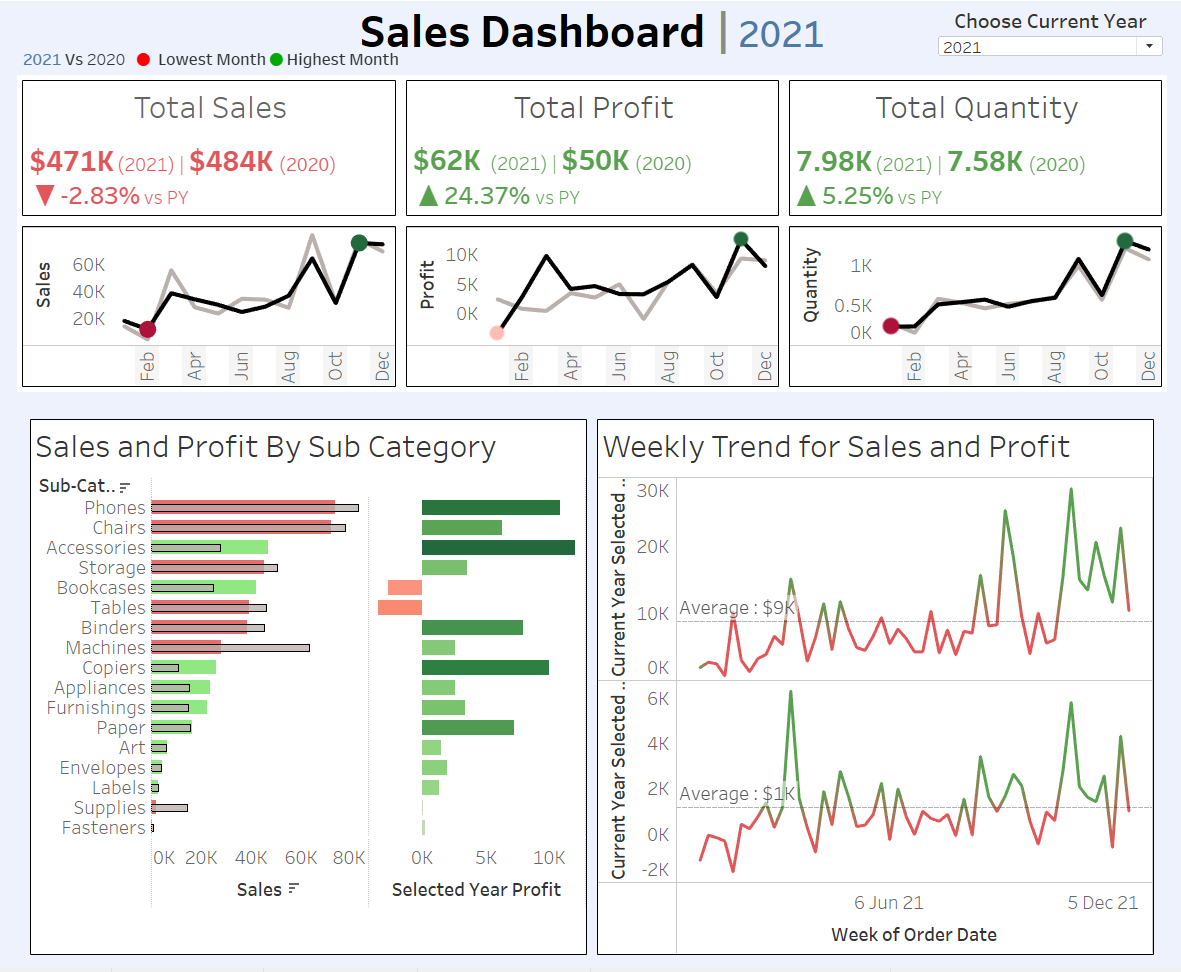

This screenshot's page, from the dashboard's own definition file:
{"tool":"tableau","page":{"name":"Dashboard 1","canvas":[1200,1000],"ordinal":0},"visuals":[{"type":"text","box":[8,8,1184,54]},{"type":"parameter","param":"[Parameters].[Parameter 1]","box":[940,11,231,52]},{"type":"worksheet","title":"Legend","mark":"Automatic","box":[30,60,526,27]},{"type":"worksheet","title":"Total Sales Ban","mark":"Text","box":[25,79,384,86]},{"type":"worksheet","title":"Total Profit Ban","mark":"Text","box":[409,79,383,86]},{"type":"worksheet","title":"Total Quantity Ban","mark":"Text","box":[792,79,383,86]},{"type":"worksheet","title":"Total Sales Difference","mark":"Text","box":[246,119,158,47]},{"type":"worksheet","title":"Total Quantity Difference","mark":"Text","box":[1015,119,159,46]},{"type":"worksheet","title":"Total Profit Difference","mark":"Text","box":[616,120,159,52]},{"type":"worksheet","title":"Sales Vs Month","mark":"Automatic","rows":["Calculation_606860098700288022"],"cols":["Order Date"],"box":[25,165,384,166]},{"type":"worksheet","title":"Profit Vs Month","mark":"Automatic","rows":["Min/Max Sales (copy)_606860098819411991"],"cols":["Order Date"],"box":[409,165,383,166]},{"type":"worksheet","title":"Profit Vs Quantity","mark":"Automatic","rows":["Min/Max Sales (copy)_606860098822295576"],"cols":["Order Date"],"box":[792,165,383,166]},{"type":"worksheet","title":"Updated Sales & Profit By Sub Cat","mark":"Automatic","rows":["Sub-Category"],"cols":["Current Year Selected Sales (copy)_606860098676994060"],"box":[8,348,592,644]},{"type":"worksheet","title":"Weekly Trend for Sales and Profit","mark":"Automatic","rows":["Calculation_606860098613805058","Current Year Selected Sales (copy)_606860098676994060"],"cols":["Order Date"],"box":[600,348,592,644]}]}

Visuals, with their boxes in screenshot pixels (x1, y1, x2, y2), scaled from the page's 1200x1000 canvas onto the 1181x972 screenshot:
text: 8/8/1173/60
parameter: 925/11/1152/61
"Legend" worksheet: 30/58/547/85
"Total Sales Ban" worksheet (Text marks): 25/77/403/160
"Total Profit Ban" worksheet (Text marks): 403/77/779/160
"Total Quantity Ban" worksheet (Text marks): 779/77/1156/160
"Total Sales Difference" worksheet (Text marks): 242/116/398/161
"Total Quantity Difference" worksheet (Text marks): 999/116/1155/160
"Total Profit Difference" worksheet (Text marks): 606/117/763/167
"Sales Vs Month" worksheet: 25/160/403/322
"Profit Vs Month" worksheet: 403/160/779/322
"Profit Vs Quantity" worksheet: 779/160/1156/322
"Updated Sales & Profit By Sub Cat" worksheet: 8/338/590/964
"Weekly Trend for Sales and Profit" worksheet: 590/338/1173/964
